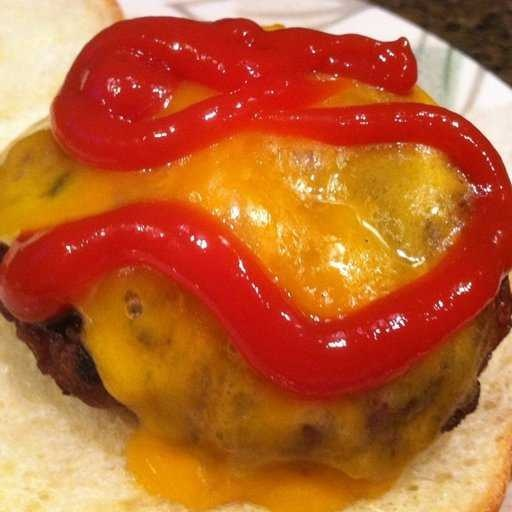hamburger: (13, 29, 471, 498)
